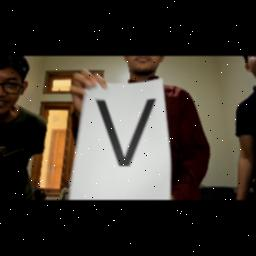v: (92, 94, 170, 180)
